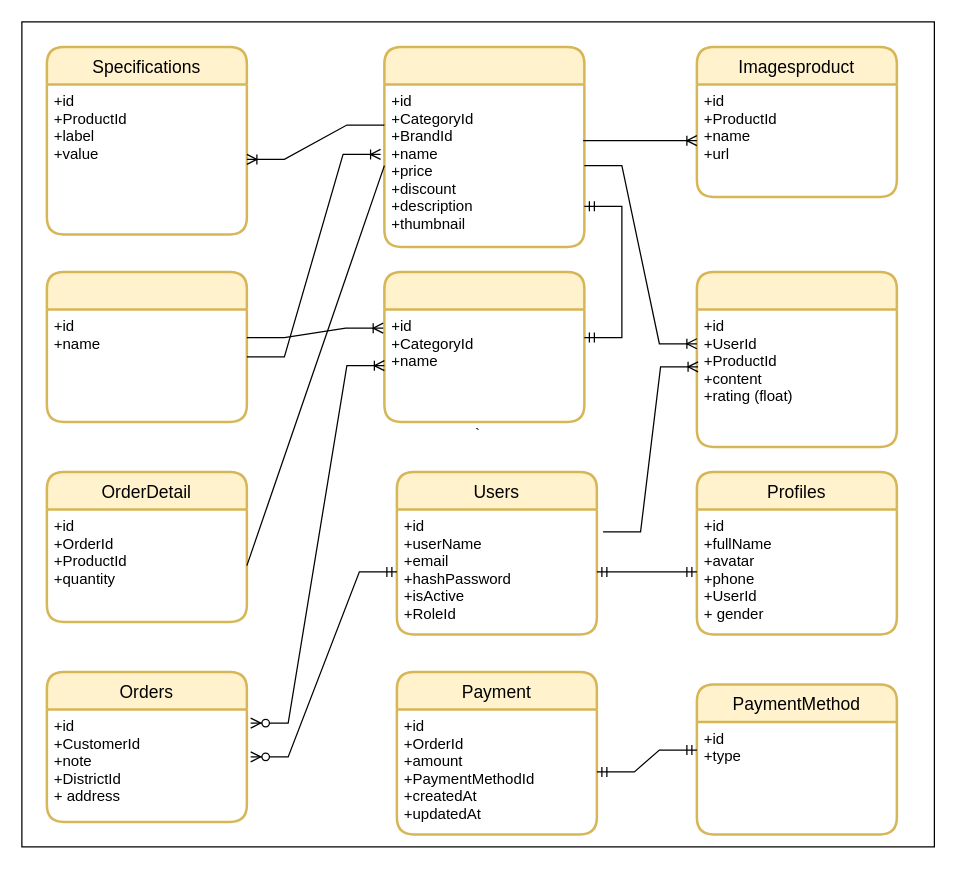
The diagram is 956 pixels wide and 869 high, and some of its shapes have lost their labels. Here are the shapes that lost their labels. From the top down, the box of each, then its label:
(382, 45, 585, 248): Products
(45, 270, 248, 422): Categories
(382, 270, 585, 422): Brands
(695, 270, 898, 448): Evaluates
